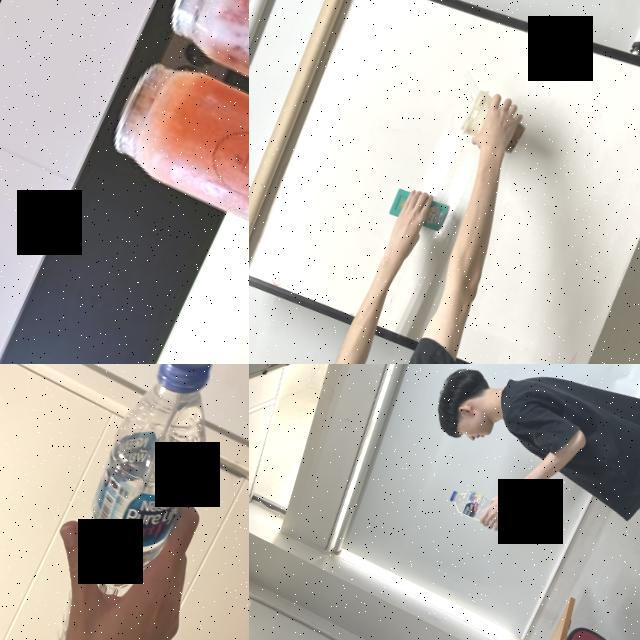bottle: (17, 364, 248, 640), (446, 483, 520, 537)
can: (100, 41, 249, 336), (155, 0, 249, 216)
cup: (456, 84, 536, 159)
